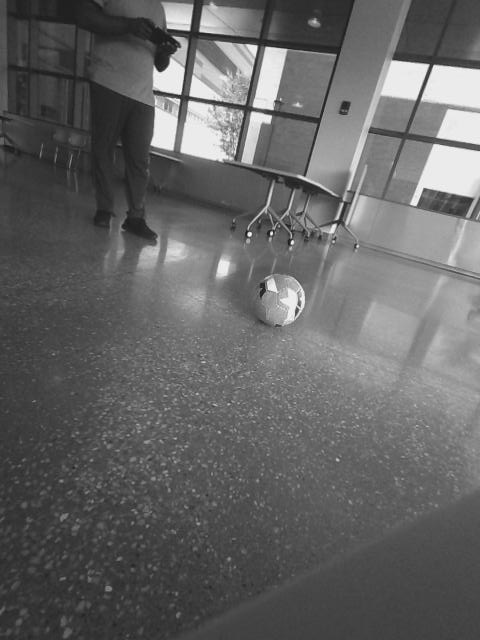ball: (330, 328, 425, 426)
